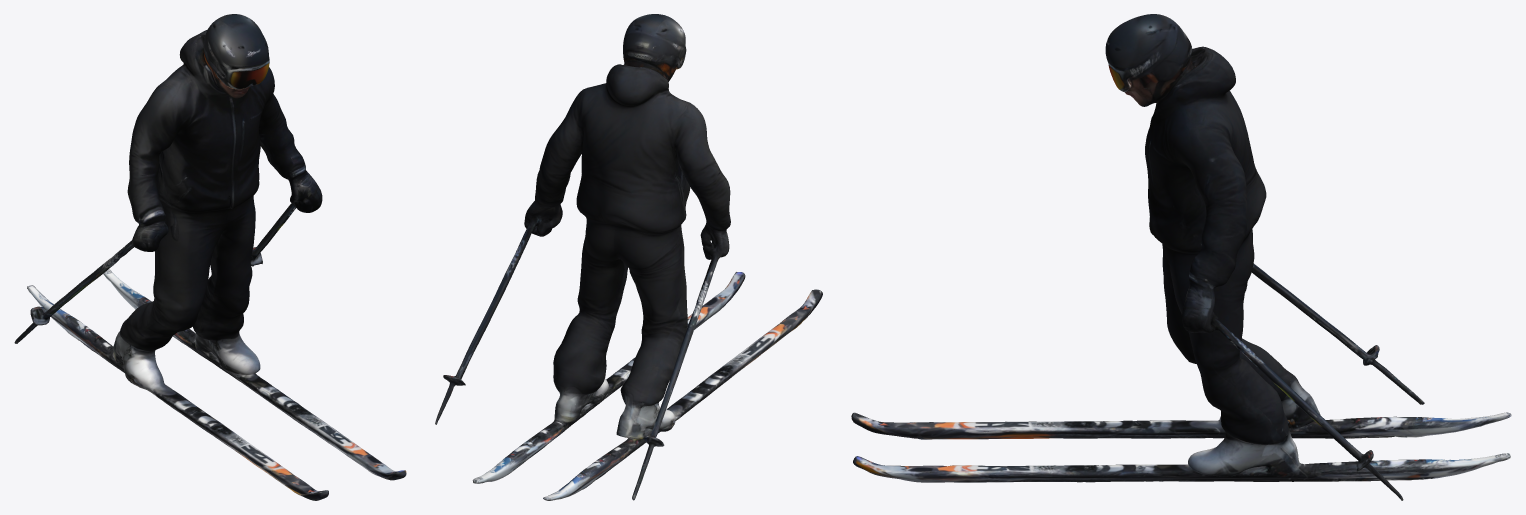
Rendered from skier.glb.
3 views of the same model, side by side, from view 1: azimuth 30°, elevation 25°; view 2: azimuth 150°, elevation 25°; view 3: azimuth 270°, elevation 25° (orthographic). The views are drawn at different scales.
Bounding box in the file's own units: 0.9031 × 1.49 × 1.99.
1 material, 1 textured.
